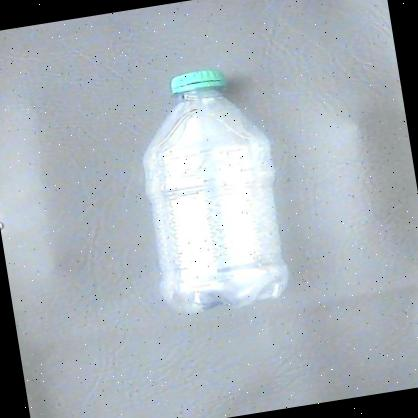bottle: (124, 58, 301, 322)
cap: (164, 65, 234, 97)
